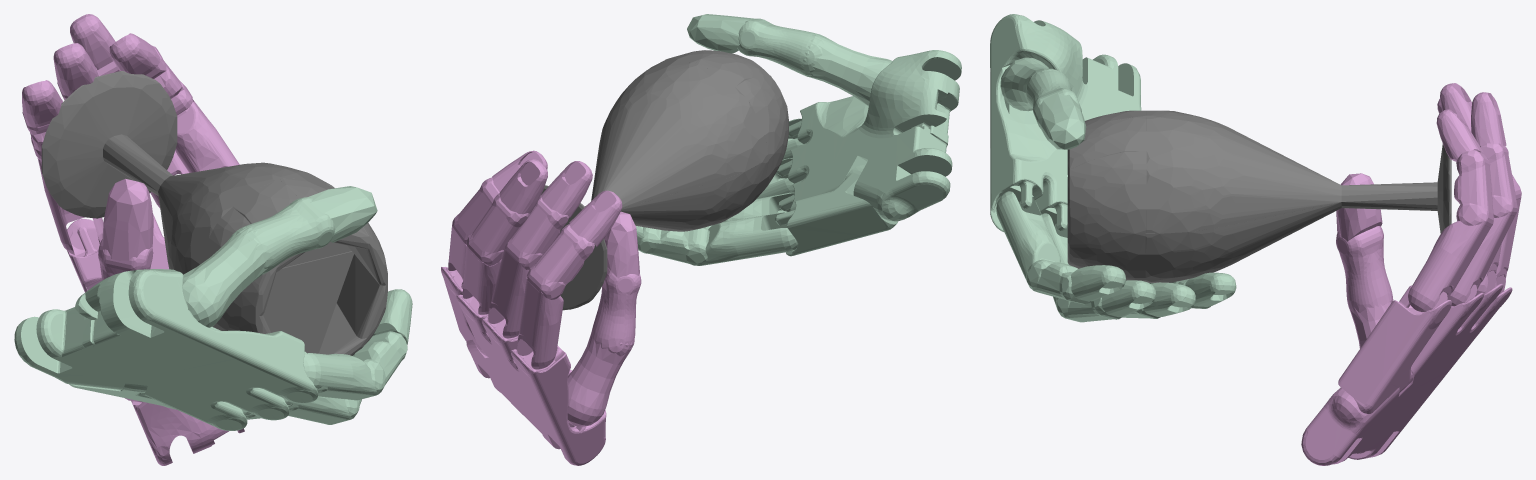
File: DrinkingUtensil.glb
The picture shows the model from 3 angles, left to right: view 1: azimuth 30°, elevation 25°; view 2: azimuth 150°, elevation 25°; view 3: azimuth 270°, elevation 25°; orthographic projection. The views are drawn at different scales.
Visible parts, largest first — view 1: world; view 2: world; view 3: world.
Part boxes in pixels (bbox=[...]): world: bbox=[14, 14, 412, 465]; world: bbox=[441, 14, 961, 465]; world: bbox=[990, 14, 1521, 465].
Size of the model in its own units: 0.2114 by 0.1904 by 0.2554.
